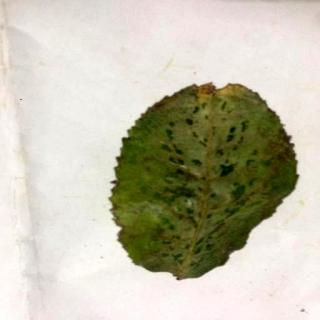Red Leaf Spot: (113, 85, 295, 282)
